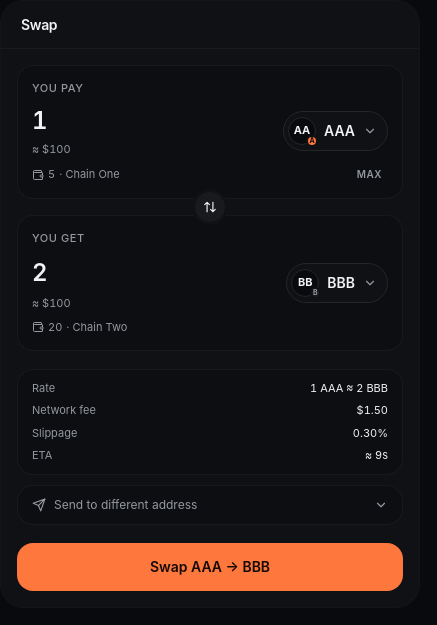
Scenario: SwapPanel › quotes the receive amount from the USD prices
Expected: the text "1 AAA ≈ 2 BBB" is shown, [310,380,388,394]
Expected: the text "$1.50" is shown, [357,403,388,417]
Replace the text in the field labelled "You pay" with "2.5x" at coordinates (152, 120), box [32,104,271,136]
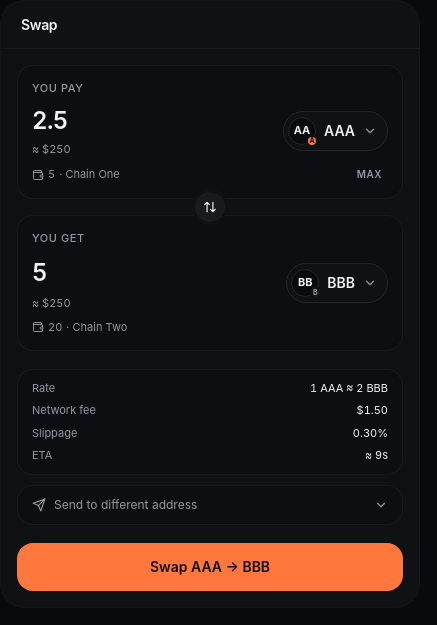
Expected: the button "Swap AAA → BBB" is enabled, [17,542,403,590]
Expected: the field labelled "You pay" holds "2.5", [32,104,271,136]
Expected: the text "5" below "You get" is shown, [32,258,47,286]
